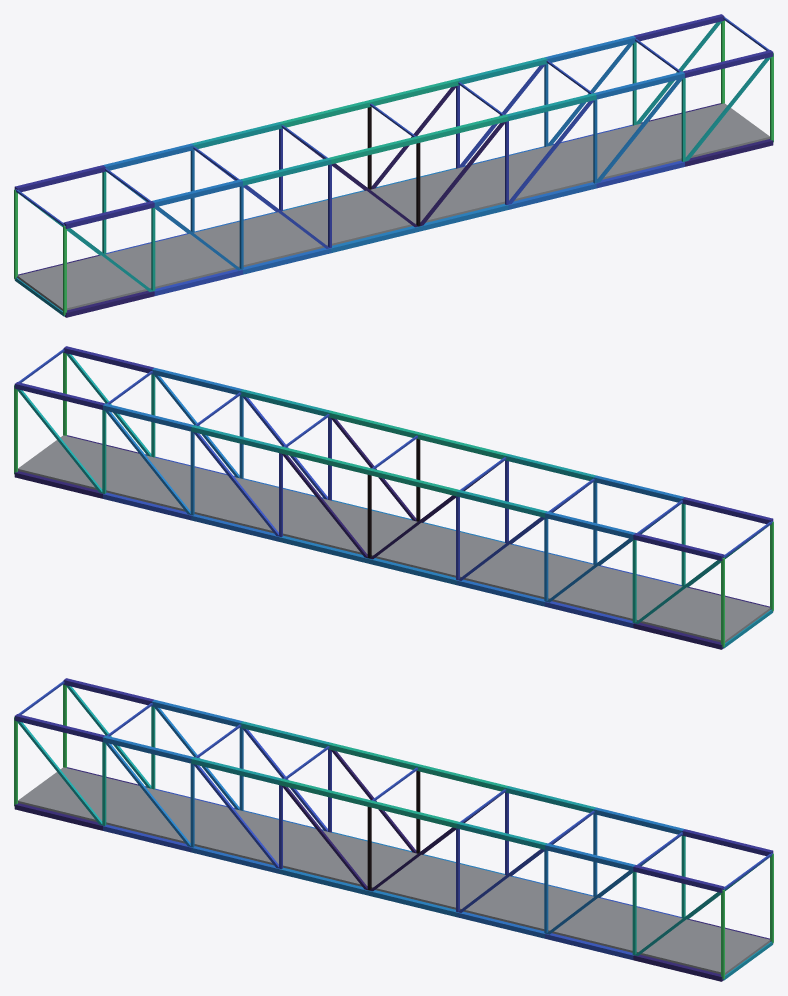
The model's file is 25_3_8_HEA200.glb.
The picture shows the model from 3 angles, top to bottom: view 1: azimuth 30°, elevation 25°; view 2: azimuth 150°, elevation 25°; view 3: azimuth 330°, elevation 25°; orthographic projection.
Size of the model in its own units: 25.09 by 3.16 by 3.16.
